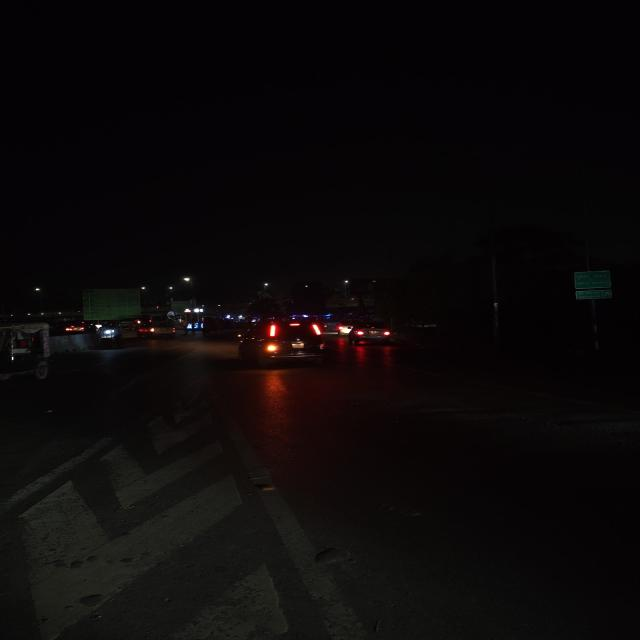car: (233, 316, 334, 367), (348, 320, 396, 348), (142, 318, 176, 340), (316, 318, 348, 338), (61, 320, 92, 334)
rickshaw: (0, 320, 60, 390)
